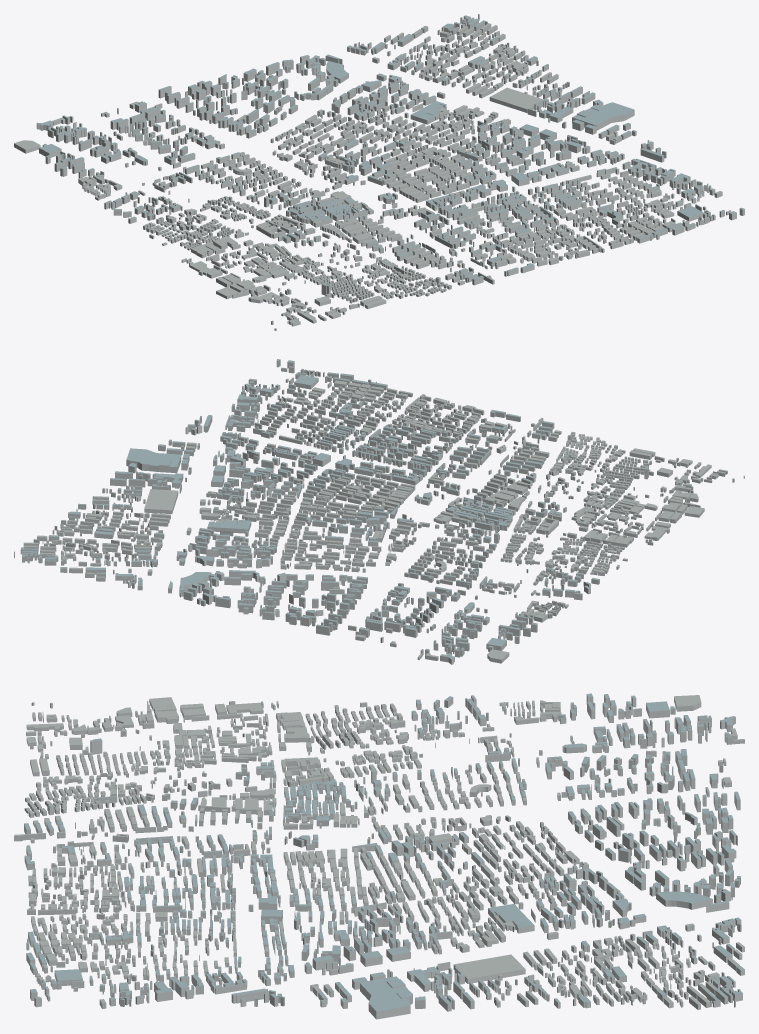
Rendered from far.glb.
The picture shows the model from 3 angles, top to bottom: view 1: azimuth 30°, elevation 25°; view 2: azimuth 150°, elevation 25°; view 3: azimuth 270°, elevation 25°; orthographic projection. The views are drawn at different scales.
Bounding box in the file's own units: 2211 × 42.41 × 2138.
